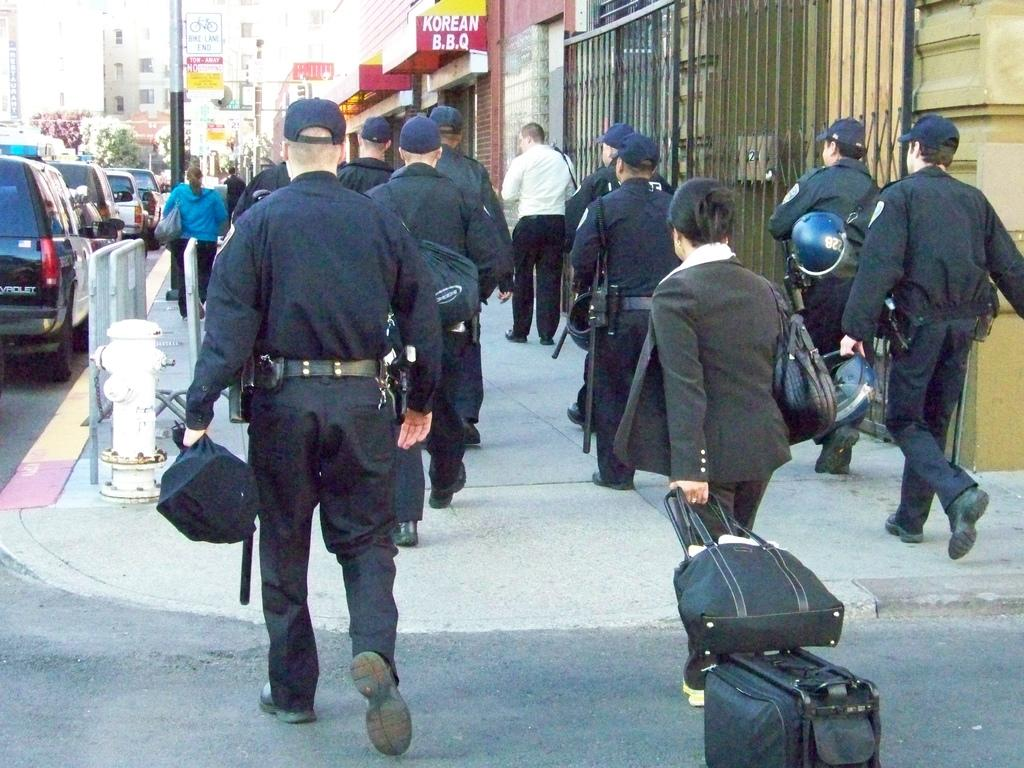Luggage-and-bags: (660, 492, 885, 767), (682, 489, 840, 650), (152, 429, 257, 597), (380, 187, 482, 337), (761, 278, 839, 452), (146, 180, 182, 256), (550, 140, 581, 184)
